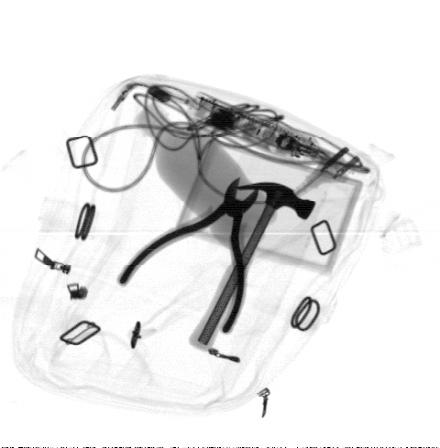Hammer: (189, 182, 316, 352)
Pliers: (117, 178, 259, 335)
